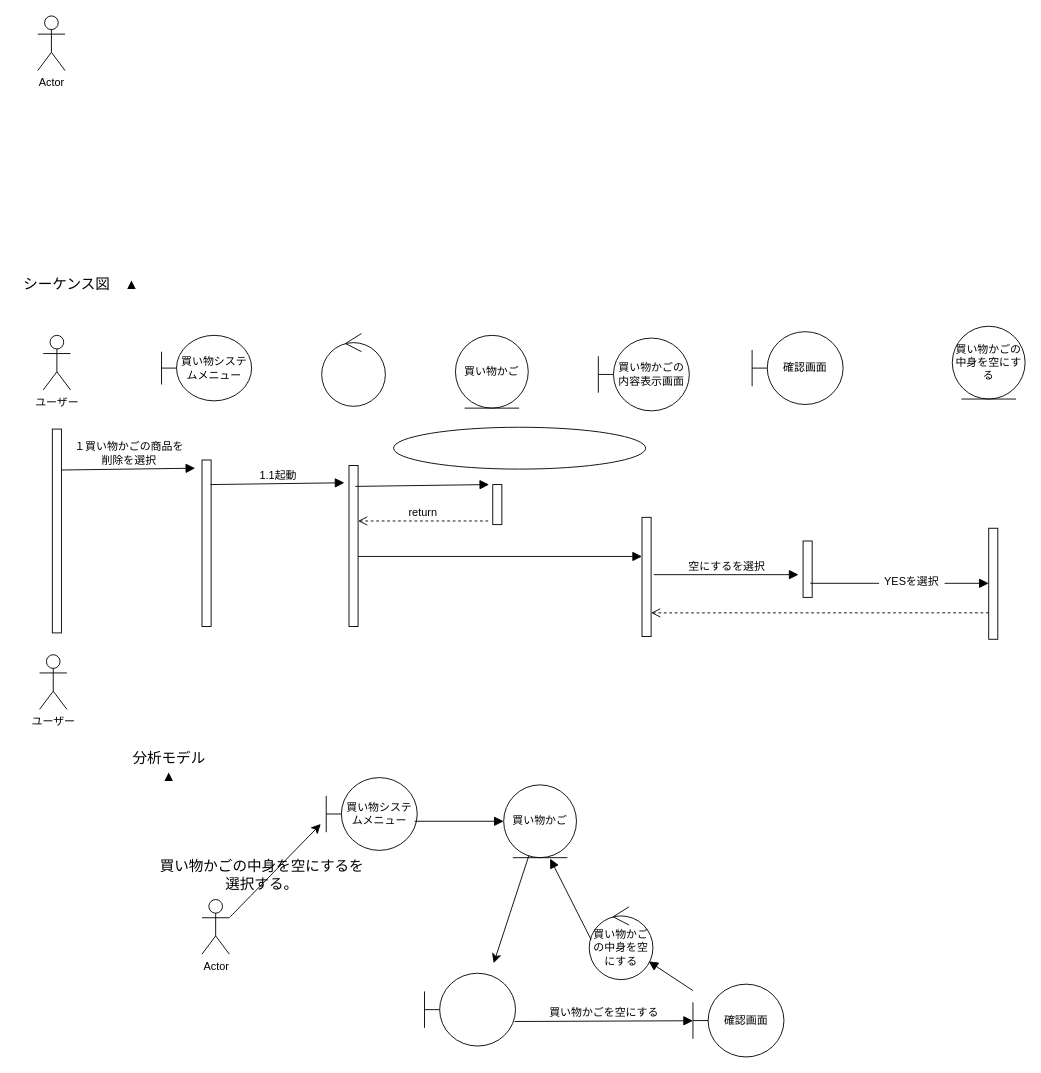
Some shapes in this 1041 by 1073 pixel diagram are drawn without their labels. Here are the shapes that lost their labels. From the top down, the centre of each, then its label:
At point (353, 369): "買い物かご内容表示".
At point (519, 447): "買い物かごの内容表示 を取得".
At point (470, 1009): "買い物かごの内容表示画面".
